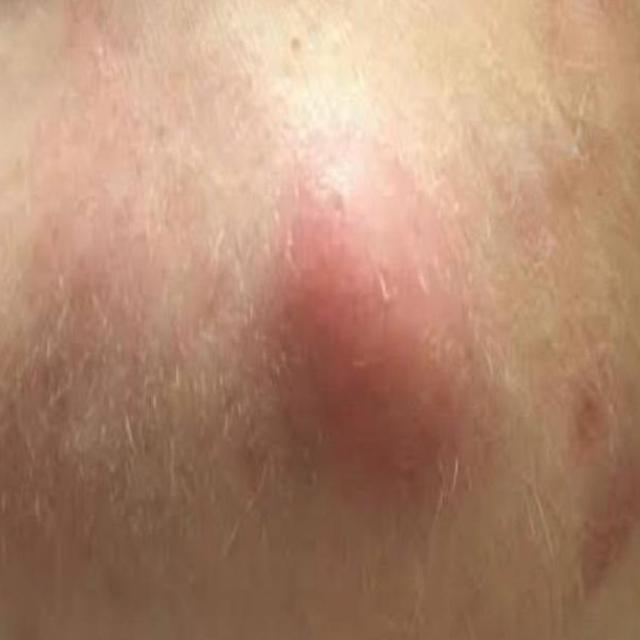nodule: (253, 58, 503, 517)
